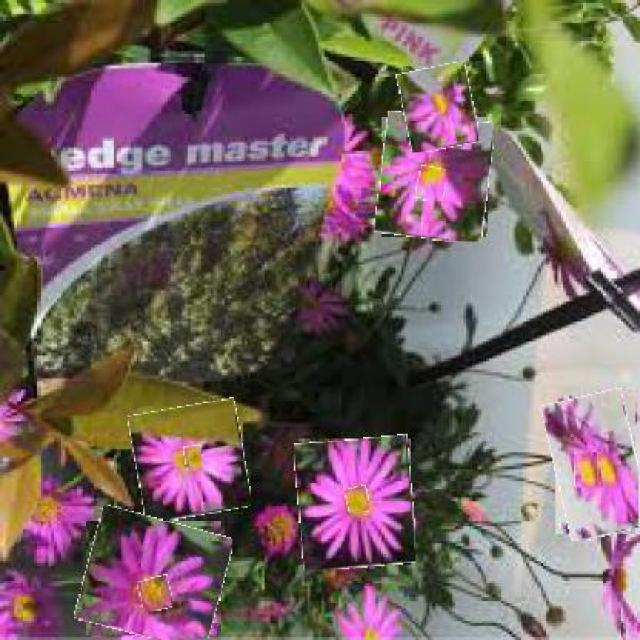Flower: (79, 513, 230, 639), (296, 436, 415, 569), (378, 114, 493, 241), (133, 403, 250, 520), (548, 391, 639, 540), (399, 63, 476, 151), (139, 575, 173, 611), (417, 167, 448, 201), (575, 453, 601, 490), (346, 485, 371, 513), (184, 446, 202, 472)
